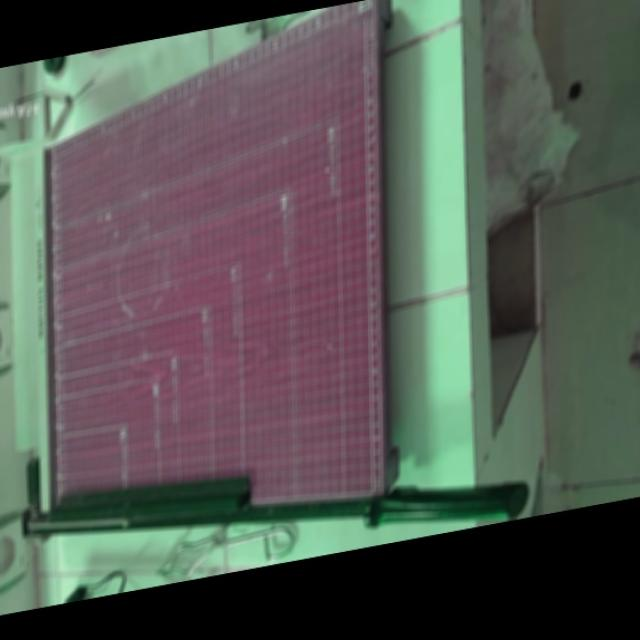TLC Cutter: (13, 0, 562, 609)
